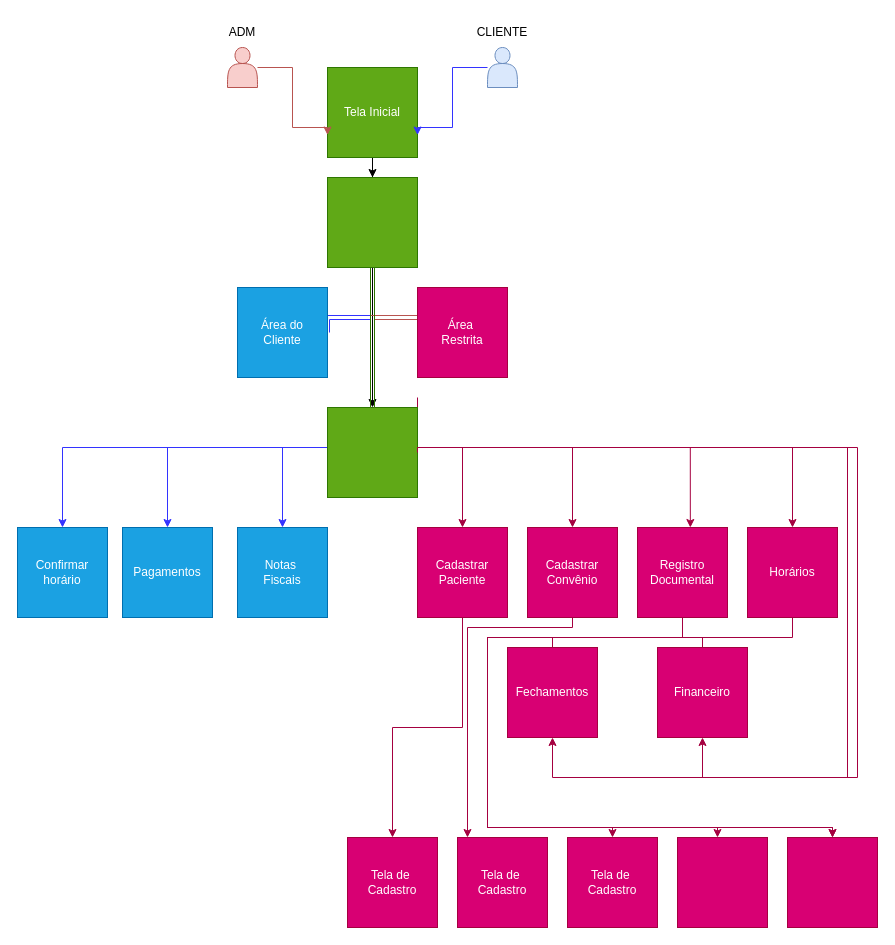
Image size: 895x945. Some labels were removed from this diagram. The box of each missing label's shape, as (x1, y1, x2, y2) in pixels:
Agenda: (676, 836, 768, 928)
Contador: (786, 836, 878, 928)
Login: (326, 406, 418, 498)
Menu: (326, 176, 418, 268)
